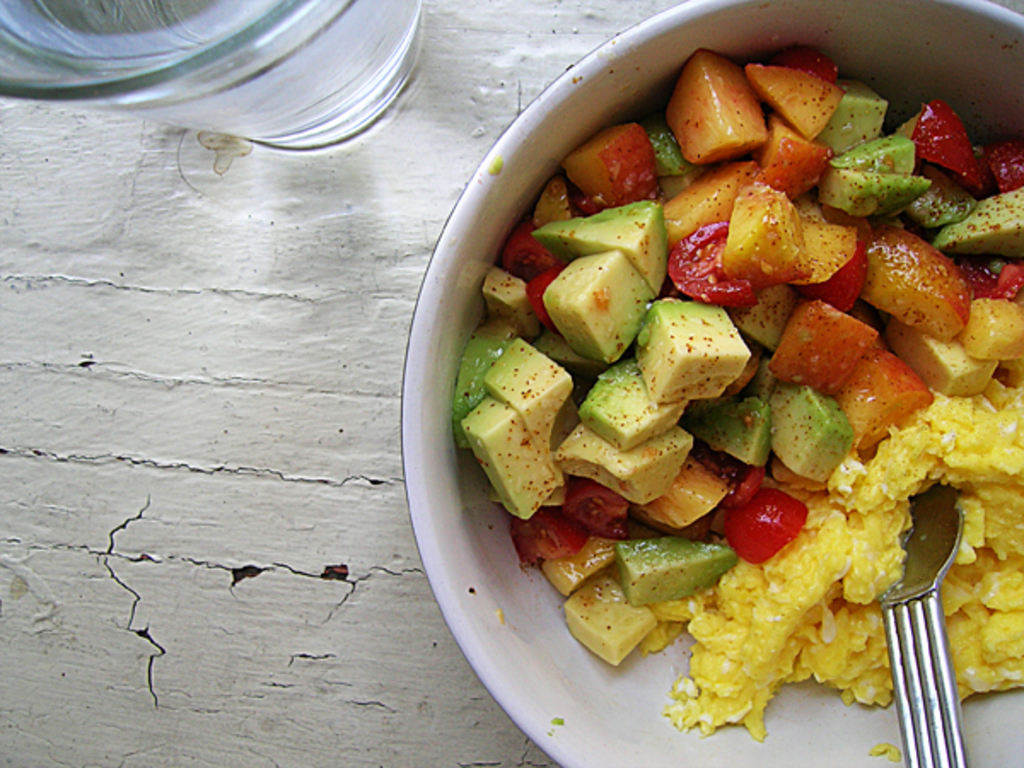salad: (393, 10, 1024, 751)
